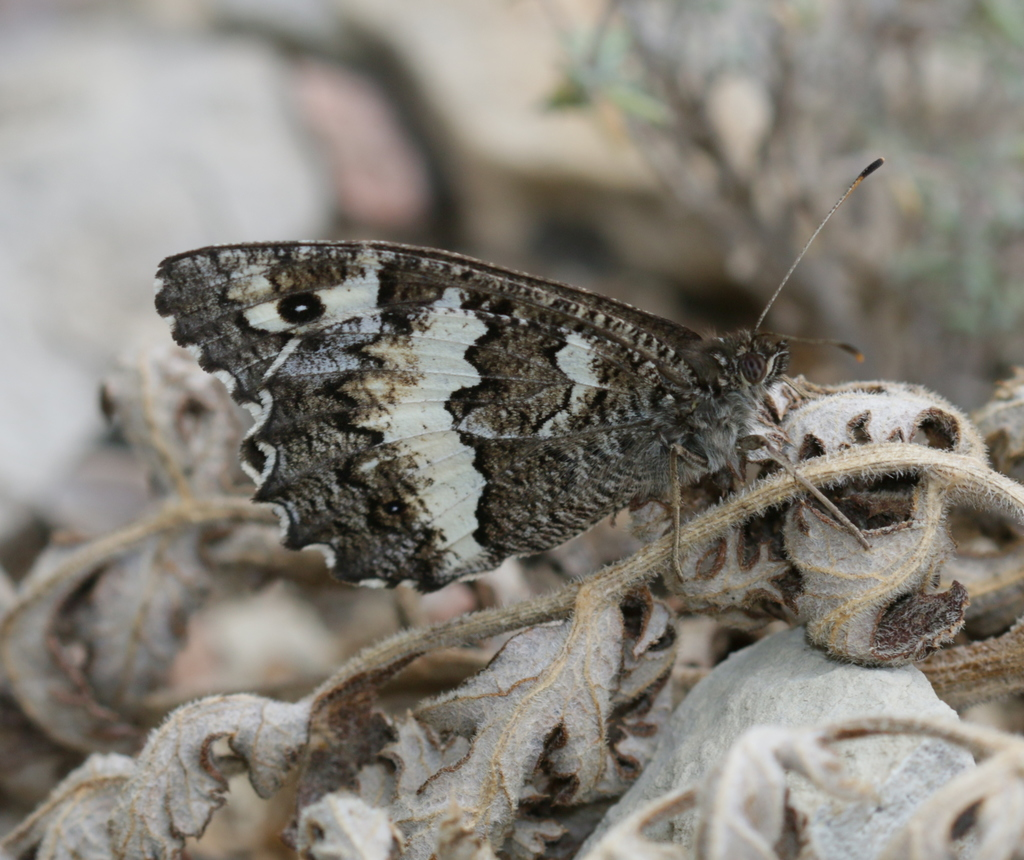Butterfly: (144, 200, 848, 635)
